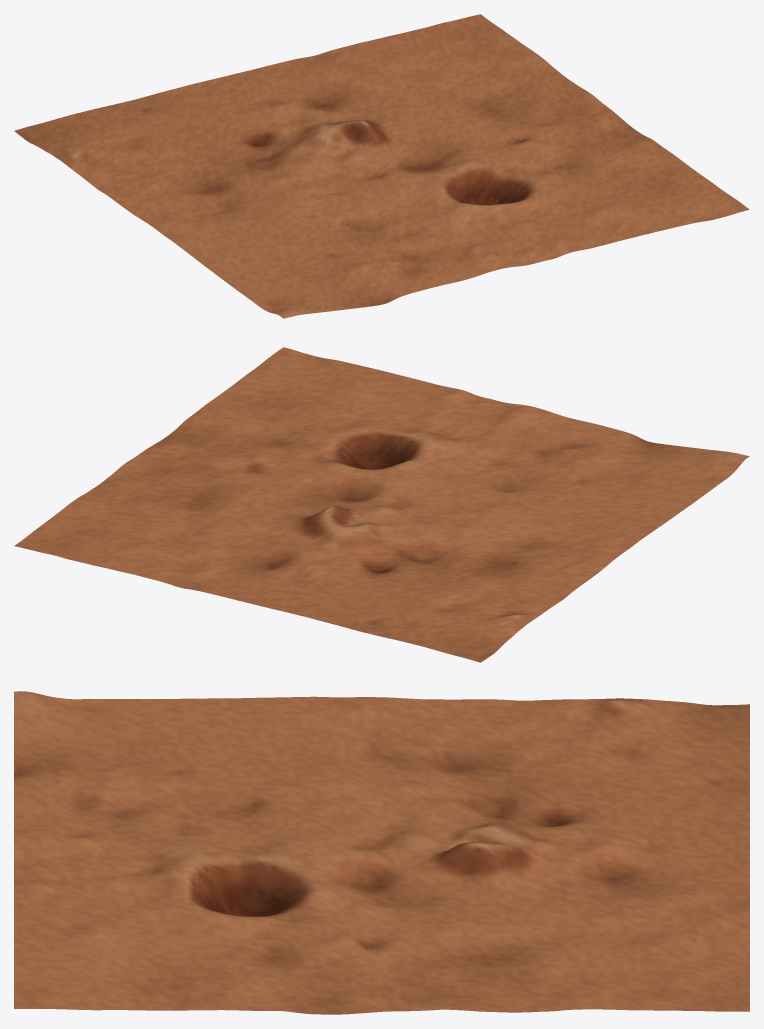
File: ares-vallis-terrain.glb
3 renders of one model, top to bottom at view 1: azimuth 30°, elevation 25°; view 2: azimuth 150°, elevation 25°; view 3: azimuth 270°, elevation 25°, orthographic. The views are drawn at different scales.
Visible parts, largest first — view 1: AresVallisTerrain; view 2: AresVallisTerrain; view 3: AresVallisTerrain.
Boxes of the visible parts, bbox=[...] form: AresVallisTerrain: bbox=[14, 14, 749, 318]; AresVallisTerrain: bbox=[14, 347, 749, 662]; AresVallisTerrain: bbox=[14, 691, 749, 1014].
Size of the model in its own units: 89.25 by 7.22 by 89.25.
